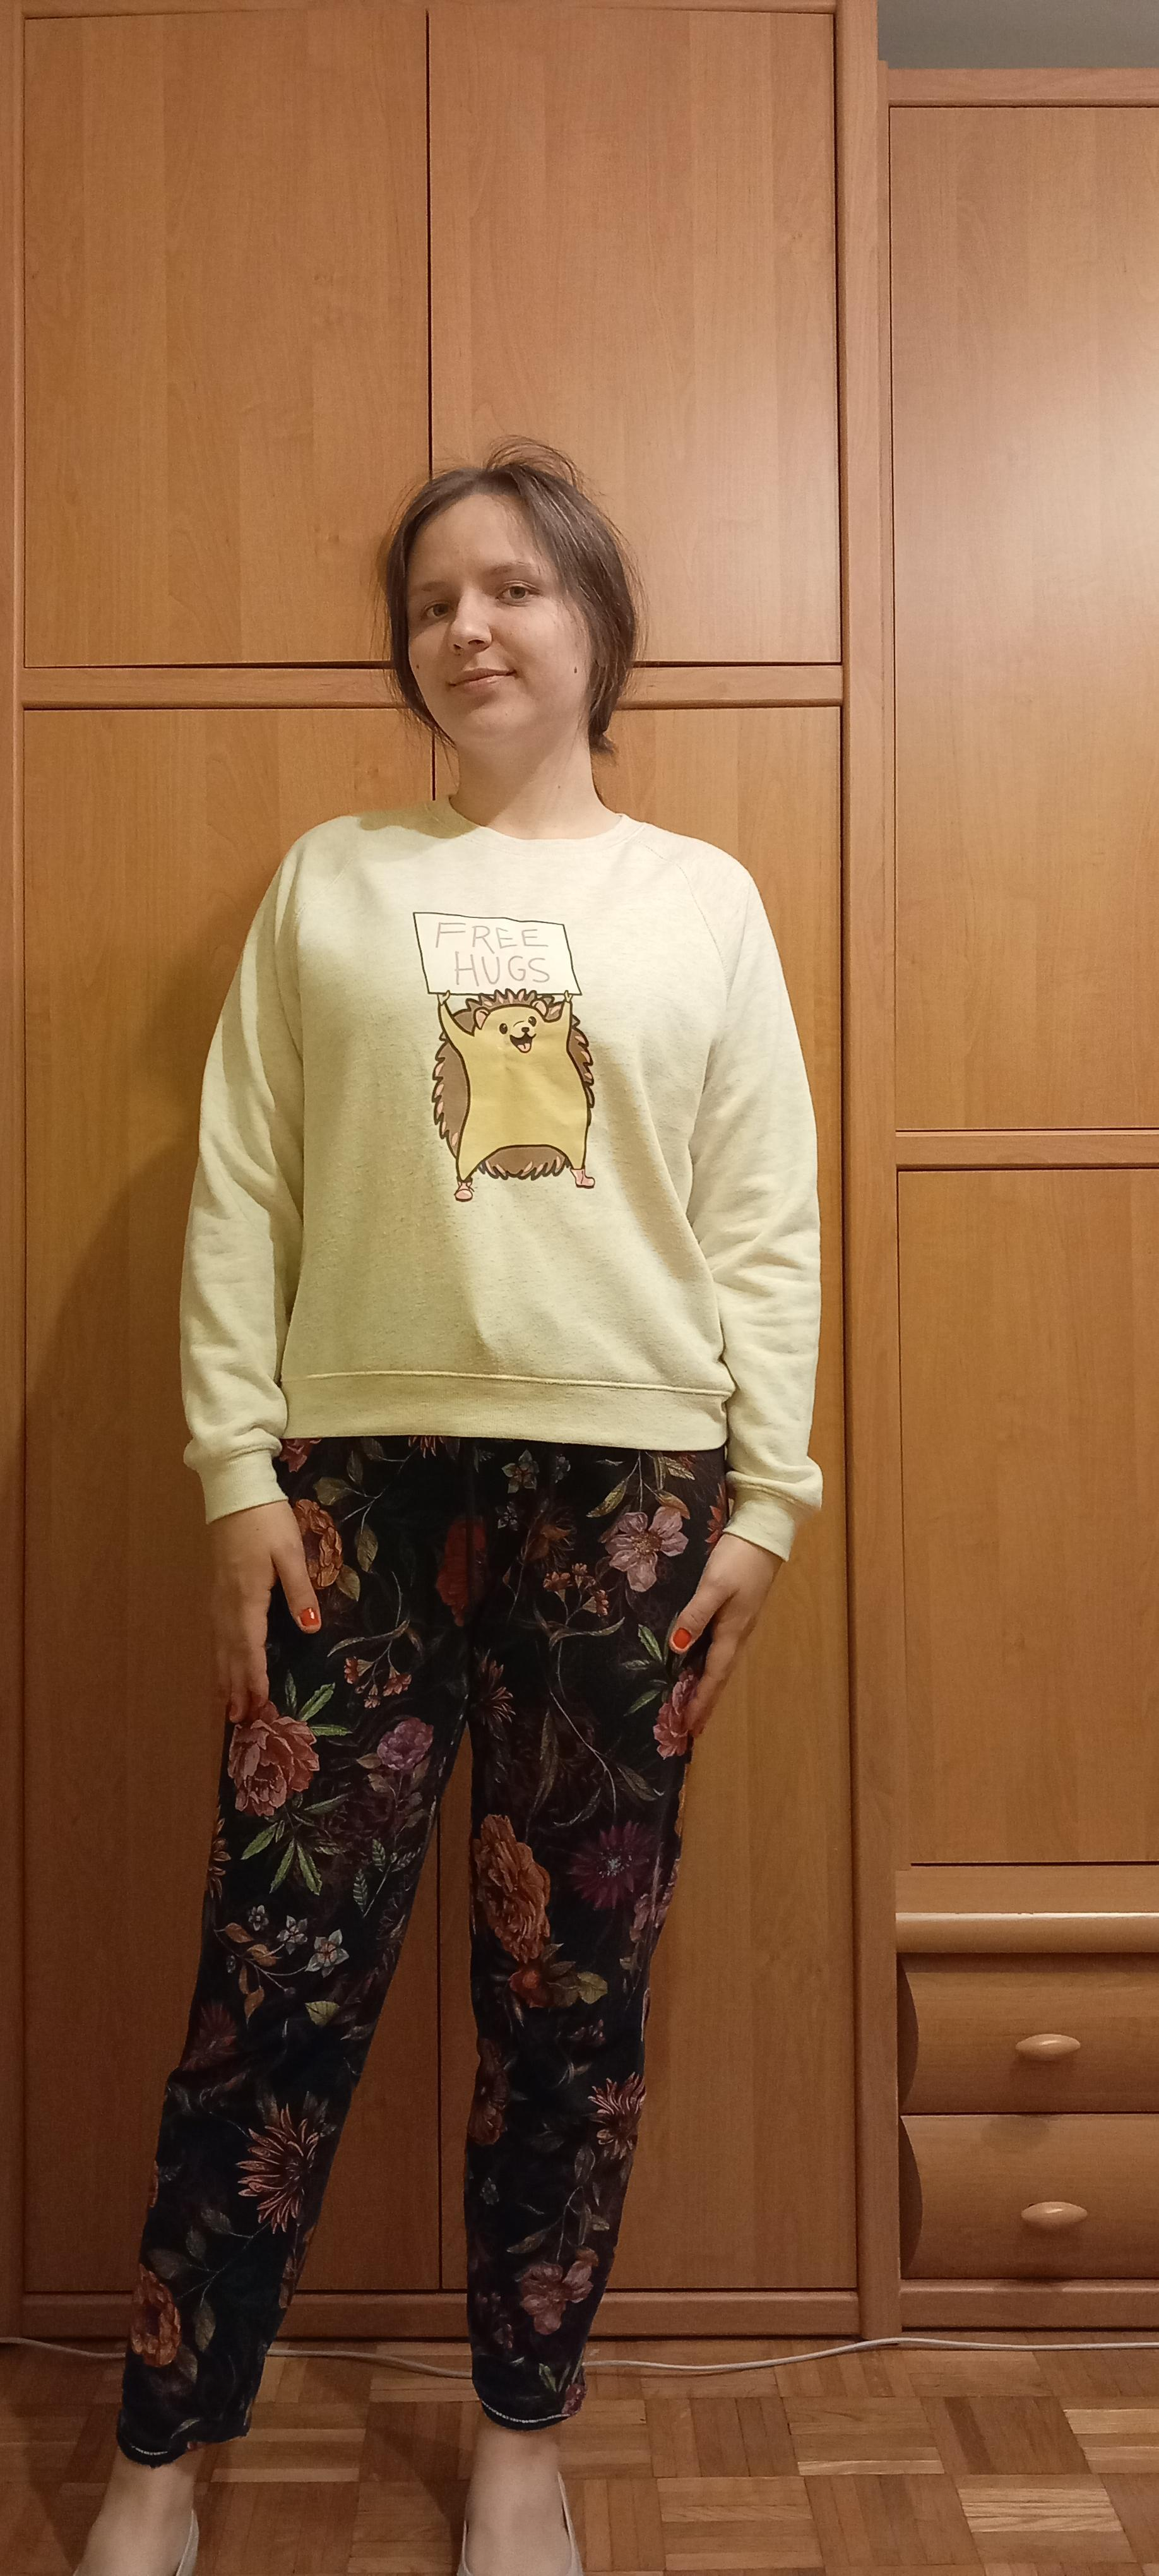pants: (115, 1436, 732, 2471)
sweater: (177, 795, 824, 1561)
